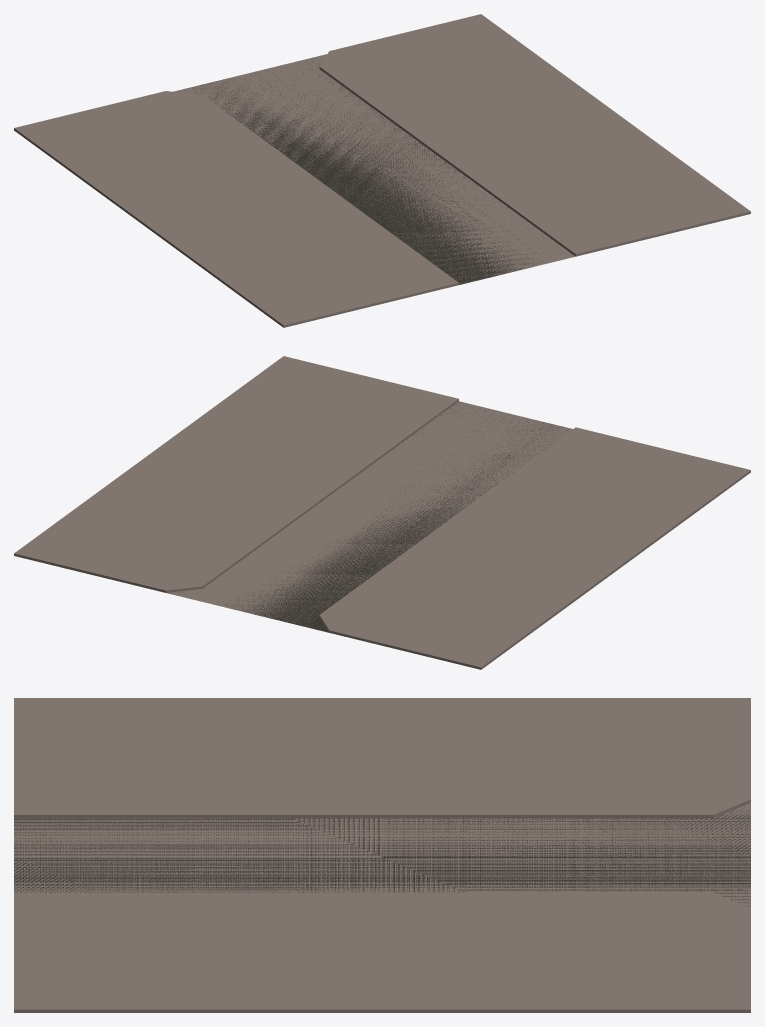
The model's file is Env_3lane_To_Street.fbx.
3 views of the same model, one above another, from view 1: azimuth 30°, elevation 25°; view 2: azimuth 150°, elevation 25°; view 3: azimuth 270°, elevation 25° (orthographic). The views are drawn at different scales.
Parts seen in each view (by area): view 1: Env_3lane_To_Street; view 2: Env_3lane_To_Street; view 3: Env_3lane_To_Street.
Part boxes in pixels (x1=…): Env_3lane_To_Street: x1=14, y1=14, x2=750, y2=327; Env_3lane_To_Street: x1=14, y1=356, x2=750, y2=669; Env_3lane_To_Street: x1=14, y1=698, x2=750, y2=1012.
Size of the model in its own units: 2000 by 10 by 2000.
